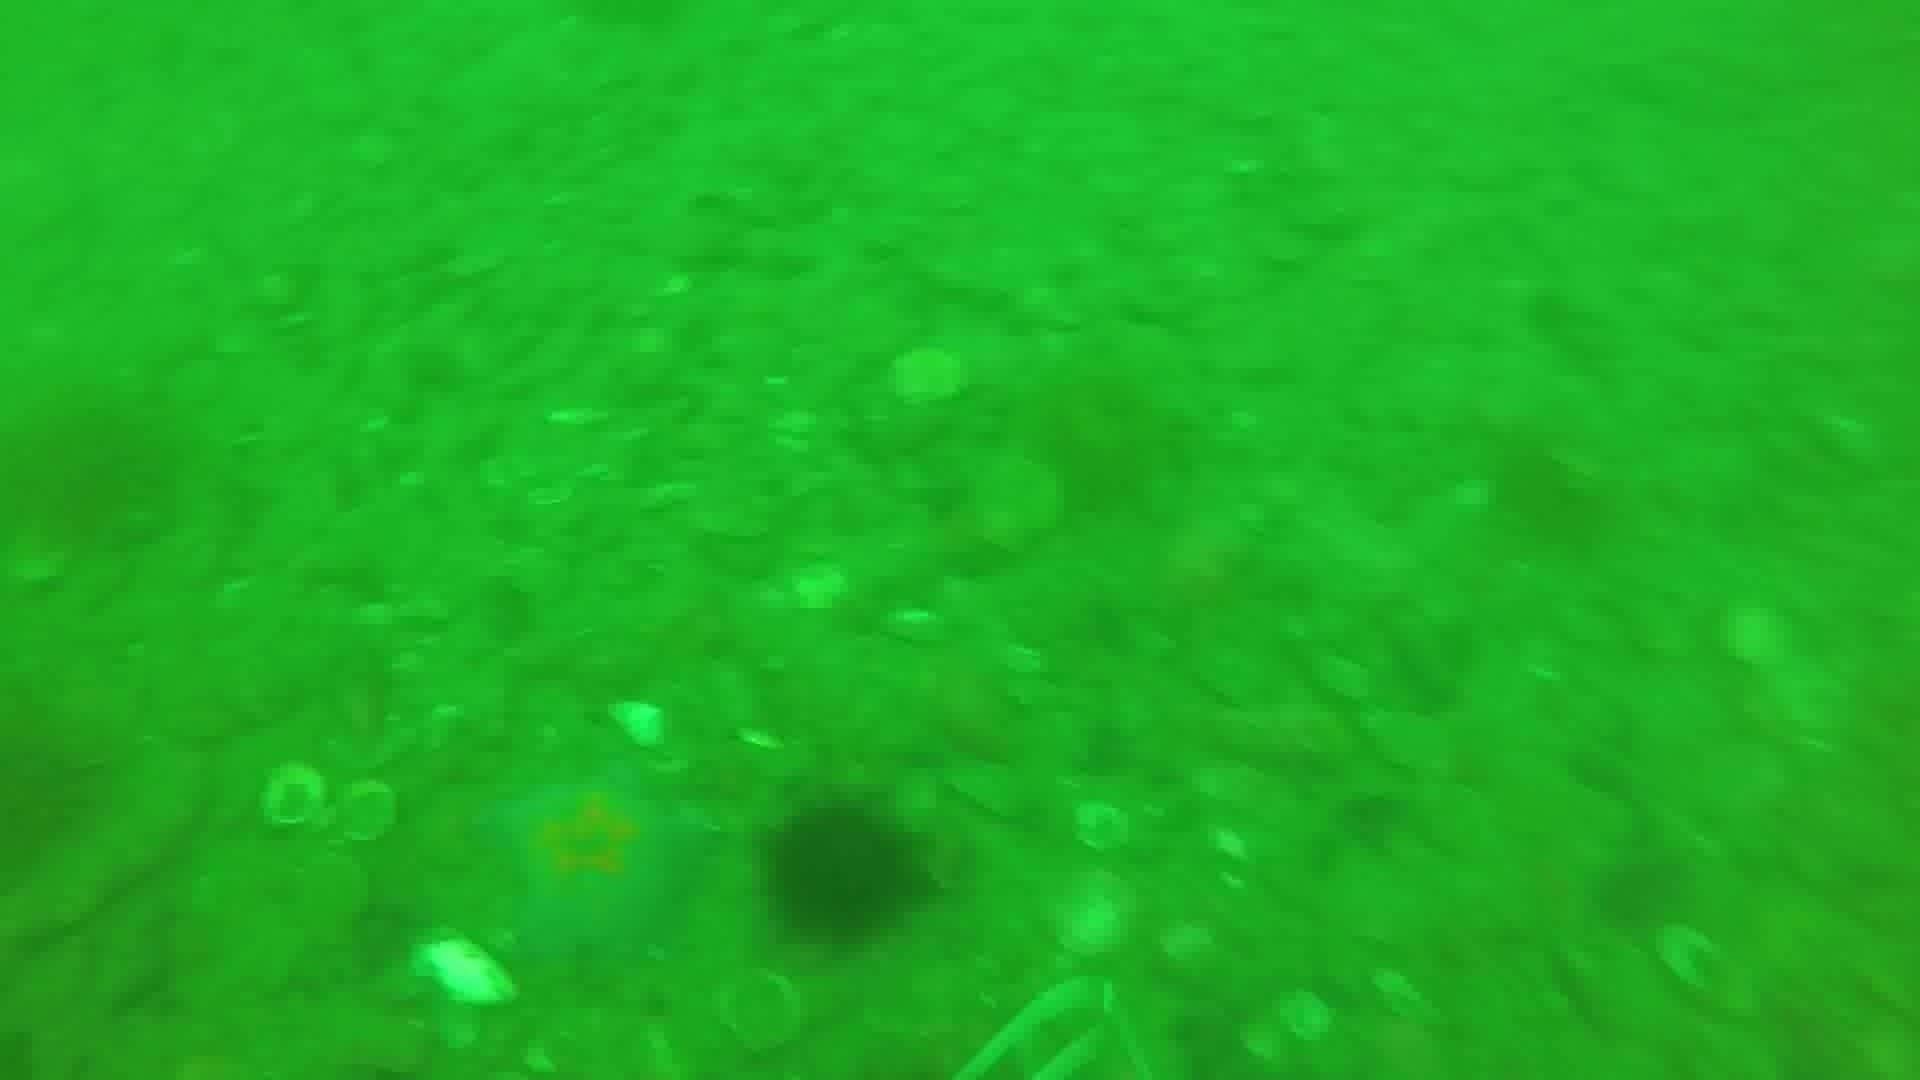echinus: (8, 388, 193, 559), (758, 798, 924, 949)
starfish: (473, 769, 717, 963)
